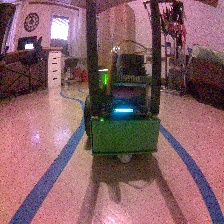rob: (83, 53, 161, 164)
